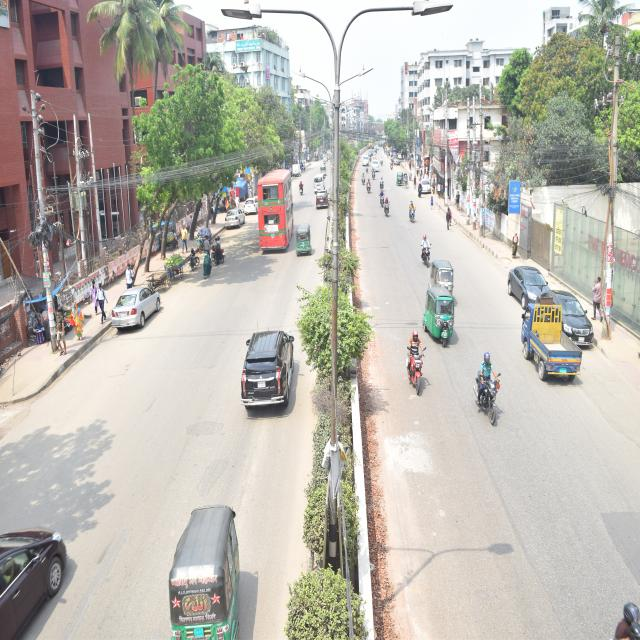car: (228, 308, 318, 424), (535, 282, 619, 358), (495, 252, 561, 319), (104, 280, 172, 342), (416, 172, 440, 204), (240, 184, 260, 216), (225, 205, 244, 236), (314, 185, 334, 212)
microbus: (314, 165, 328, 205)
motorbike: (476, 348, 520, 447), (404, 307, 429, 411), (210, 226, 228, 284), (417, 230, 434, 270), (407, 191, 420, 239), (383, 192, 392, 227), (378, 184, 386, 214), (369, 161, 378, 186), (367, 174, 373, 205), (377, 171, 385, 193), (364, 161, 371, 178), (362, 167, 365, 194), (379, 152, 384, 168)
pickup-van: (519, 294, 594, 404), (288, 158, 308, 178)
